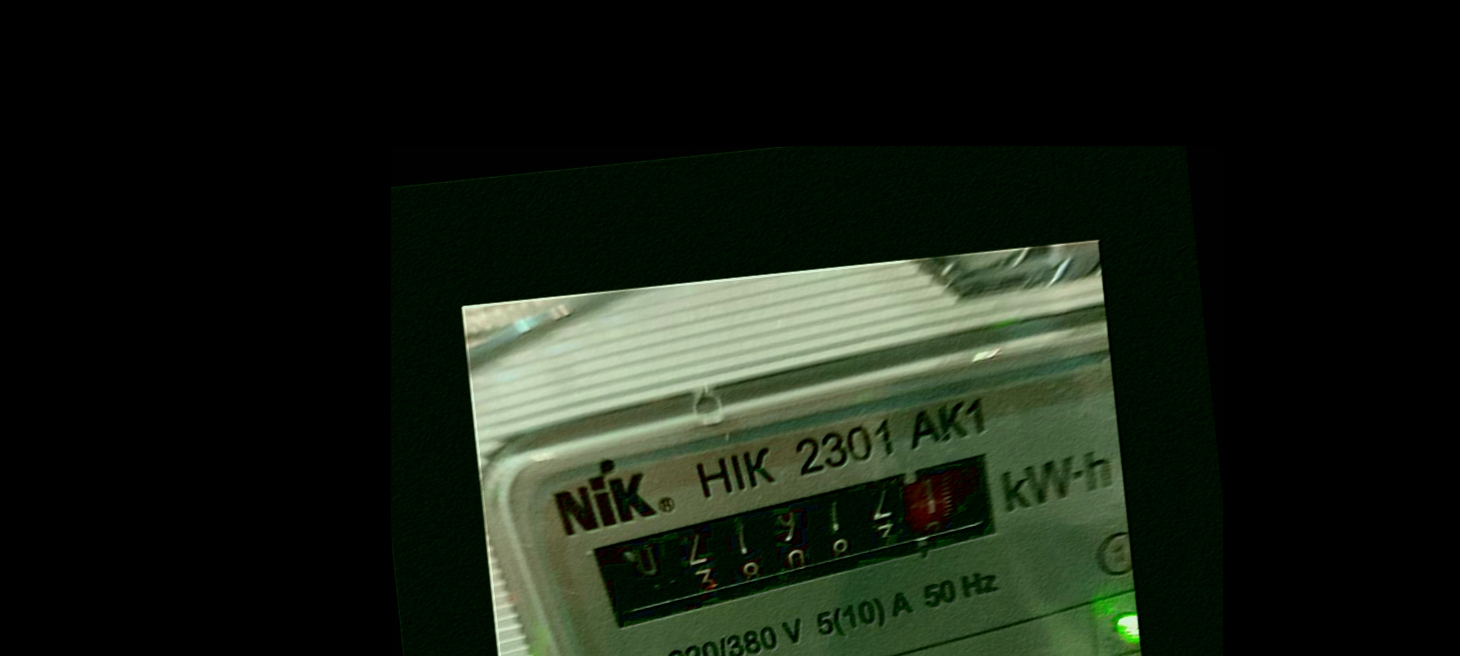0: (632, 543, 663, 581)
1: (919, 476, 946, 521)
2: (680, 528, 713, 570), (866, 485, 898, 525)
7: (820, 495, 850, 538), (729, 521, 756, 560)
9: (775, 509, 805, 546)
screen: (572, 443, 1037, 644)
